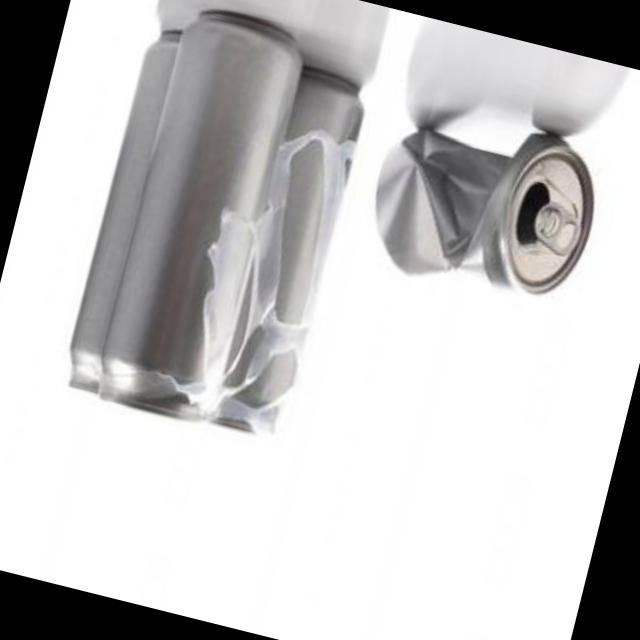metal: (68, 15, 359, 433), (373, 131, 590, 295)
